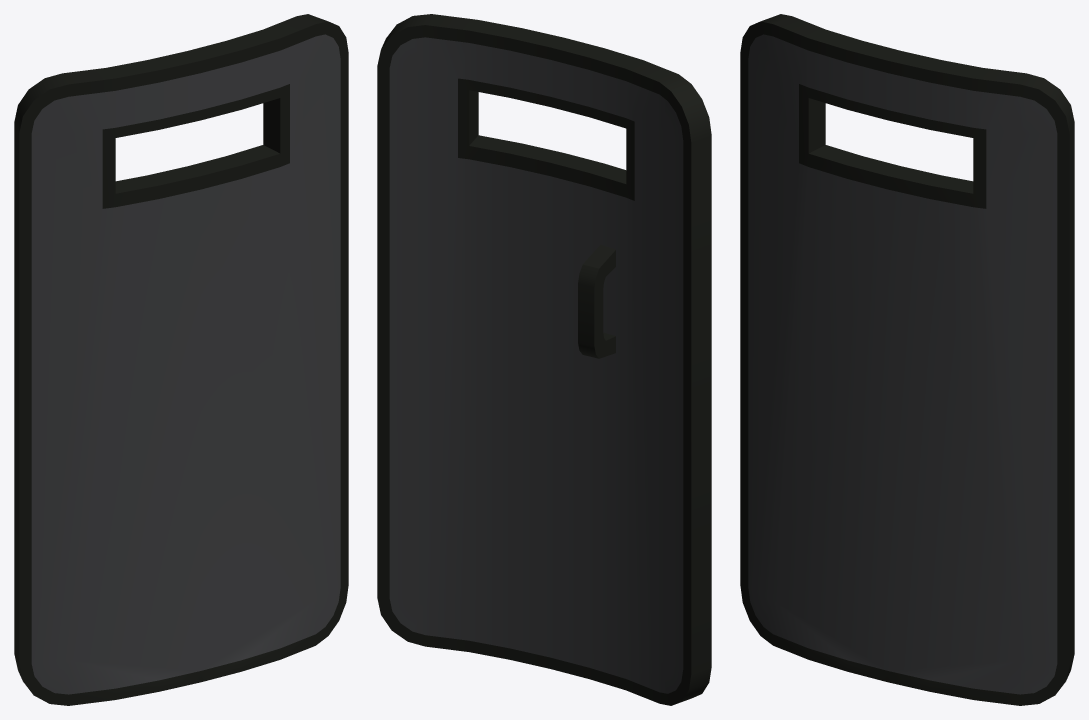
Rendered from shield.fbx.
3 views of the same model, side by side, from view 1: azimuth 30°, elevation 25°; view 2: azimuth 150°, elevation 25°; view 3: azimuth 330°, elevation 25° (orthographic).
Parts seen in each view (by area): view 1: LongPoliceShield_01; view 2: LongPoliceShield_01; view 3: LongPoliceShield_01.
Boxes of the visible parts, bbox=[...] form: LongPoliceShield_01: bbox=[14, 14, 348, 705]; LongPoliceShield_01: bbox=[377, 14, 711, 705]; LongPoliceShield_01: bbox=[740, 14, 1074, 705].
Size of the model in its own units: 229 by 413 by 45.17.
Materials: 1 (1 with a texture image).
